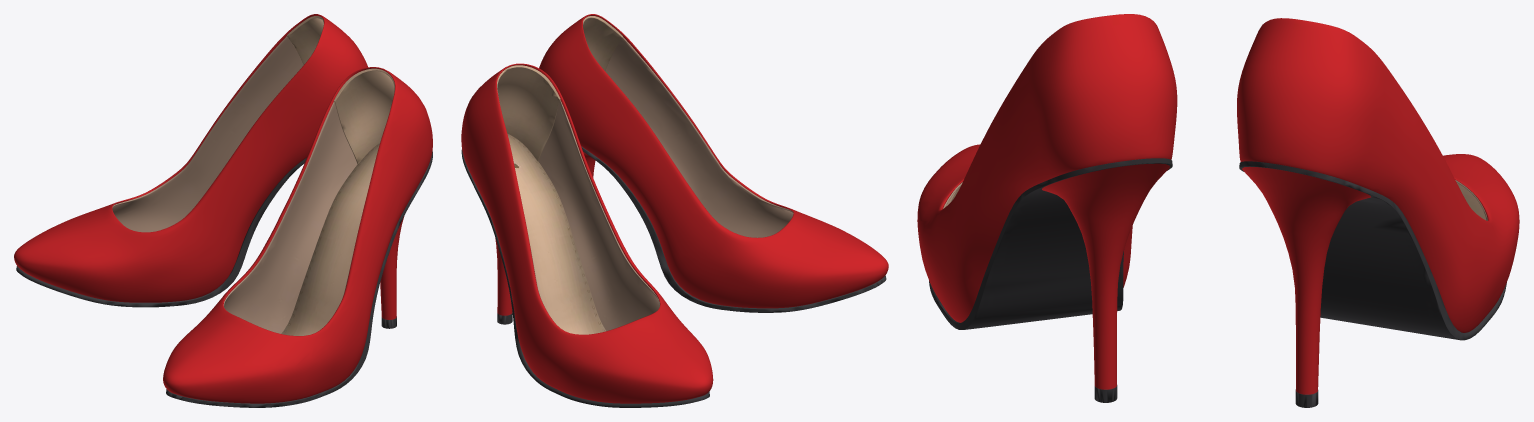
Rendered from red-heels.glb.
3 views of the same model, side by side, from view 1: azimuth 30°, elevation 25°; view 2: azimuth 150°, elevation 25°; view 3: azimuth 270°, elevation 25° (orthographic). The views are drawn at different scales.
Visible parts, largest first — view 1: lambert1; view 2: lambert1; view 3: lambert1.
Boxes of the visible parts, x1=… form: lambert1: x1=14, y1=14, x2=432, y2=407; lambert1: x1=461, y1=14, x2=888, y2=407; lambert1: x1=917, y1=14, x2=1519, y2=407.
Size of the model in its own units: 5.88 by 4.66 by 6.7.
Materials: 1 (1 with a texture image).
